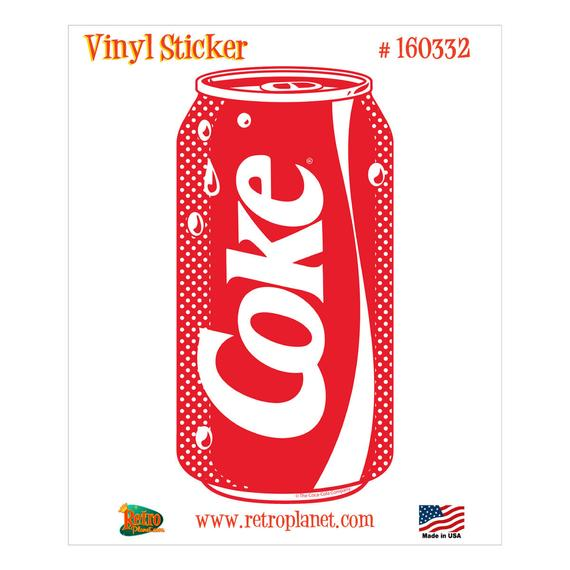coke: (201, 139, 328, 447)
